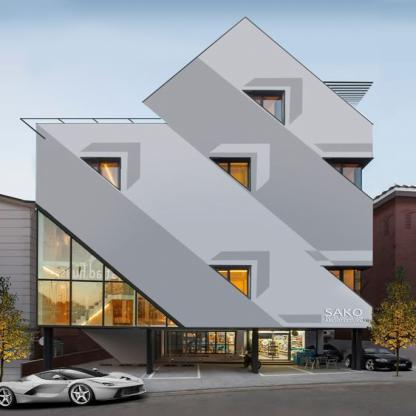Building Outline: (18, 15, 375, 383)
Door: (257, 333, 289, 360)
Facade: (18, 15, 374, 383)
Floor Slab: (36, 205, 373, 210), (38, 260, 374, 265), (37, 150, 373, 154), (38, 325, 372, 328)
Glass Wall: (38, 210, 177, 326)
Pillar: (44, 327, 53, 383), (352, 329, 361, 370), (146, 330, 153, 375)
Shop: (166, 331, 236, 353), (325, 308, 365, 322), (291, 331, 305, 360), (248, 331, 256, 360)
Window: (82, 159, 119, 189), (329, 163, 361, 190), (216, 270, 248, 297), (216, 163, 248, 190), (249, 95, 281, 122), (329, 270, 361, 296)
